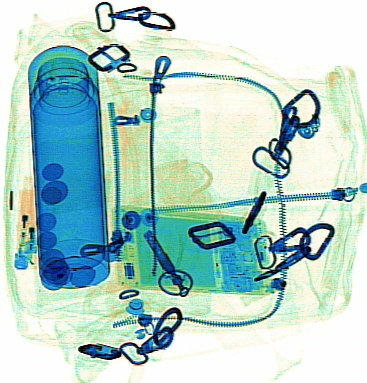lighter: (12, 176, 38, 270)
